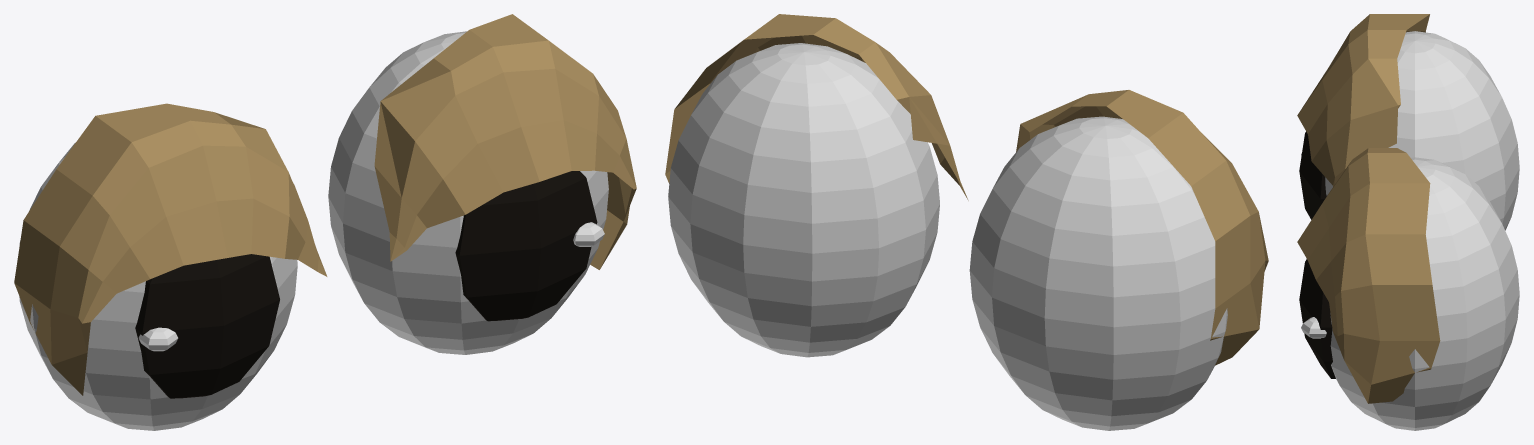
The picture shows the model from 3 angles, left to right: view 1: azimuth 30°, elevation 25°; view 2: azimuth 150°, elevation 25°; view 3: azimuth 270°, elevation 25°; orthographic projection. The views are drawn at different scales.
Visible parts, largest first — view 1: eyelid, eyes_wide; view 2: eyes_wide, eyelid; view 3: eyes_wide, eyelid.
Boxes of the visible parts, left/top/right/bottom form: eyelid: left=14, top=14, right=636, bottom=395; eyes_wide: left=19, top=31, right=608, bottom=430; eyes_wide: left=668, top=43, right=1227, bottom=430; eyelid: left=665, top=14, right=1268, bottom=365; eyes_wide: left=1299, top=31, right=1519, bottom=430; eyelid: left=1297, top=14, right=1440, bottom=403.
Size of the model in its own units: 0.6901 by 0.3674 by 0.278.
